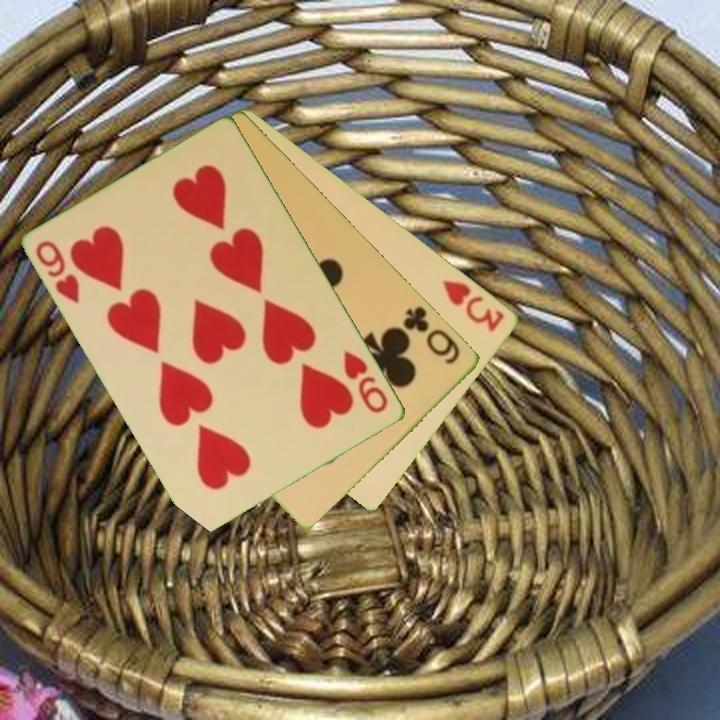3h: (439, 276, 508, 335)
6c: (400, 302, 464, 367)
9h: (340, 347, 392, 417), (32, 236, 83, 307)
